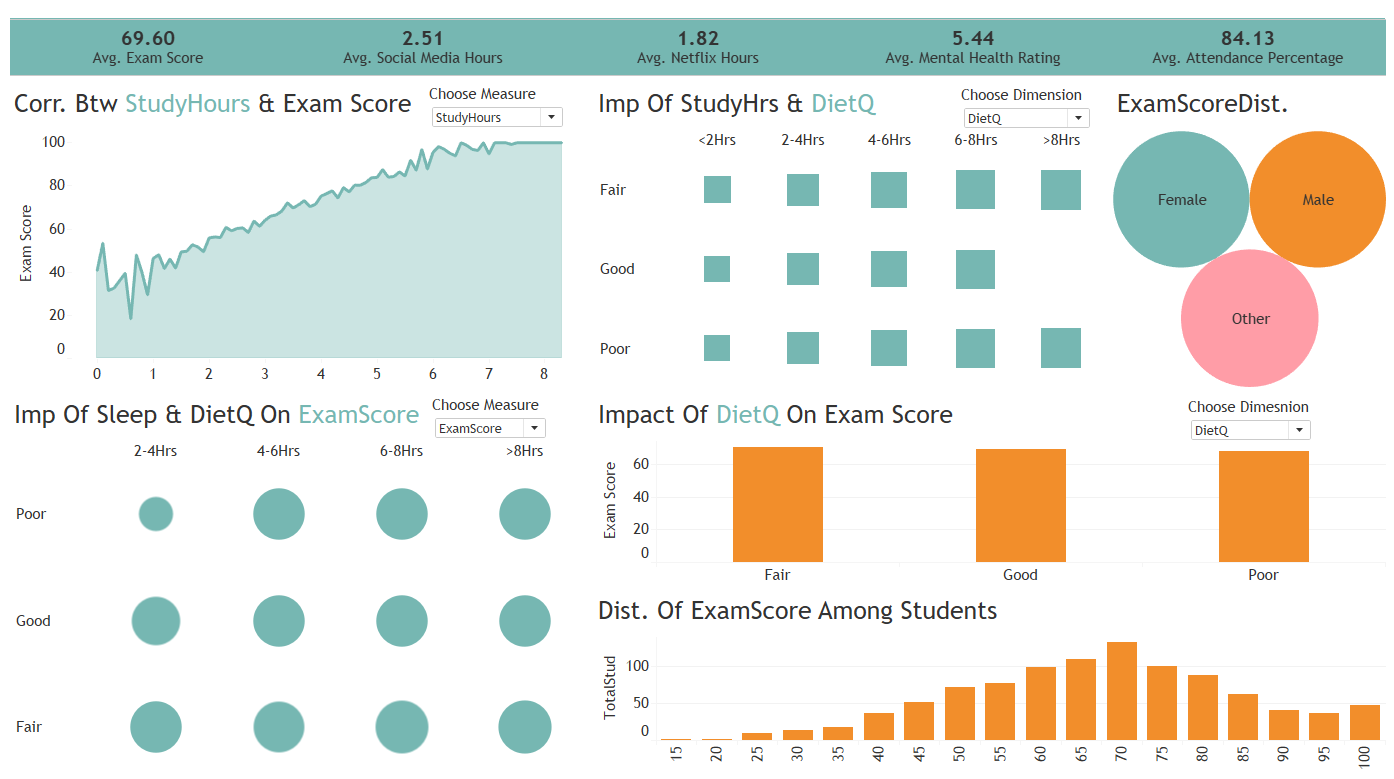

The dashboard page shown, as its layout file describes it:
{"tool":"tableau","page":{"name":"StudentPerformanceAnalysis","canvas":[1400,800],"ordinal":0},"visuals":[{"type":"worksheet","title":"Bands","mark":"Automatic","box":[8,8,1384,81]},{"type":"worksheet","title":"AreaChartMeasure","mark":"Area","rows":["exam_score","Exam Score (copy)_1125055484686401537"],"cols":["Calculation_809522035837775872"],"box":[8,89,584,311]},{"type":"worksheet","title":"HeatMapDimension","mark":"Square","rows":["Calculation_809522035859337226"],"cols":["Calculation_809522035856855048"],"box":[592,89,519,311]},{"type":"worksheet","title":"ExamScoreDistByGender","mark":"Circle","box":[1111,89,281,311]},{"type":"parameter","param":"[Parameters].[Parameter 1]","box":[431,93,137,47]},{"type":"parameter","param":"[Parameters].[Parameter 5]","box":[963,94,132,45]},{"type":"worksheet","title":"HeatmapMeasure","mark":"Circle","rows":["diet_quality"],"cols":["Calculation_809522035850543108"],"box":[8,400,584,392]},{"type":"worksheet","title":"Impact of Dimension On Exam Score","mark":"Automatic","rows":["Exam Score (copy)_1125055484686401537"],"cols":["Calculation_809522035841949697"],"box":[592,400,800,196]},{"type":"parameter","param":"[Parameters].[Parameter 4]","box":[434,404,117,45]},{"type":"parameter","param":"[Parameters].[Parameter 2]","box":[1190,406,126,45]},{"type":"worksheet","title":"Histogram","mark":"Automatic","rows":["Exam Score (copy)_1125055484686401537"],"cols":["Exam Score (bin)"],"box":[592,596,800,196]}]}

Visuals, with their boxes in screenshot pixels (x1, y1, x2, y2), scaled from the page's 1400x800 canvas onto the 1394x779 screenshot:
"Bands" worksheet: (8, 8, 1386, 87)
"AreaChartMeasure" worksheet (Area marks): (8, 87, 589, 390)
"HeatMapDimension" worksheet (Square marks): (589, 87, 1106, 390)
"ExamScoreDistByGender" worksheet (Circle marks): (1106, 87, 1386, 390)
parameter: (429, 91, 566, 136)
parameter: (959, 92, 1090, 135)
"HeatmapMeasure" worksheet (Circle marks): (8, 390, 589, 771)
"Impact of Dimension On Exam Score" worksheet: (589, 390, 1386, 580)
parameter: (432, 393, 549, 437)
parameter: (1185, 395, 1310, 439)
"Histogram" worksheet: (589, 580, 1386, 771)
